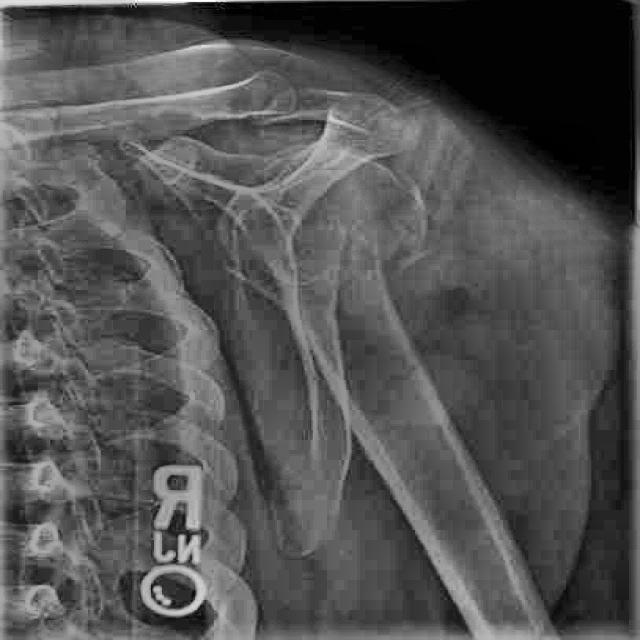shoulder fracture: (285, 343, 426, 511)
